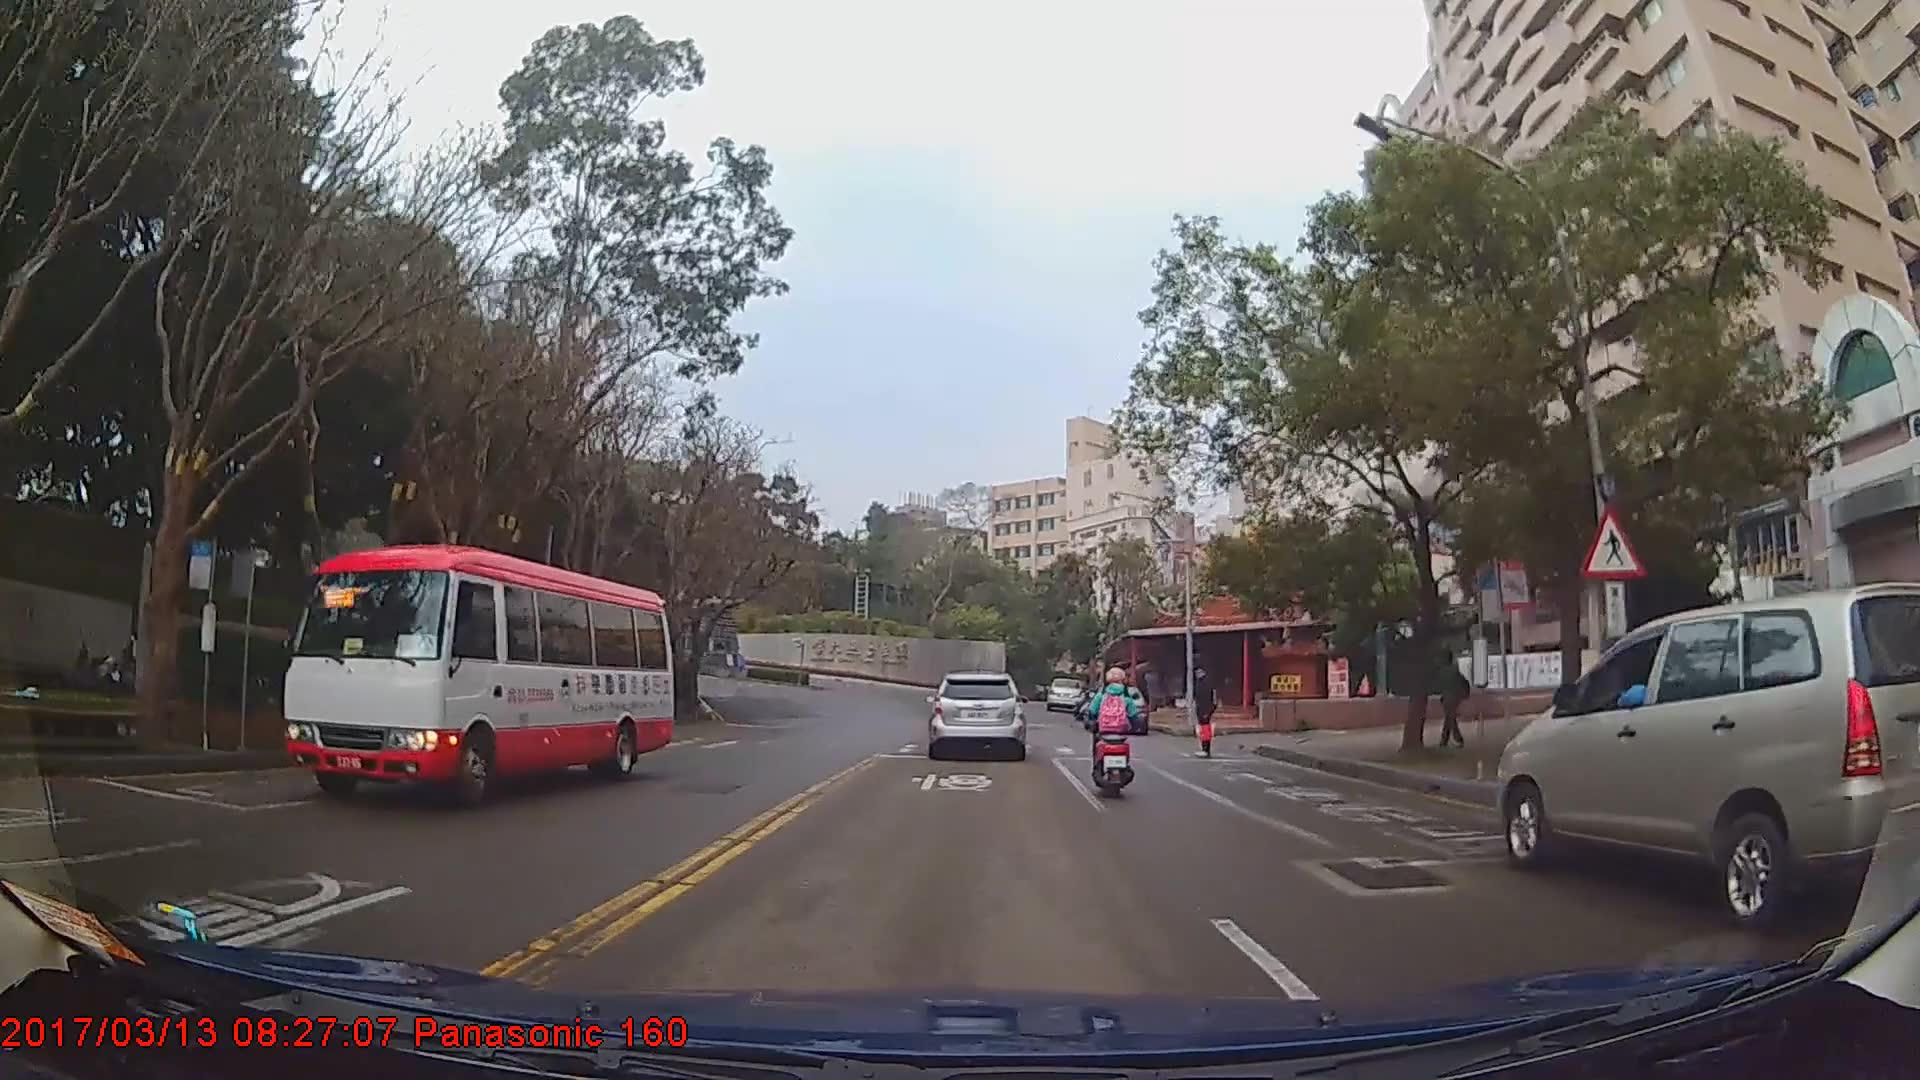pedestrian: (1431, 649, 1470, 746), (1190, 666, 1220, 760)
rider: (1081, 667, 1139, 798)
vehicle: (1496, 578, 1920, 933), (279, 544, 675, 811), (924, 671, 1027, 759), (1045, 676, 1084, 710)
